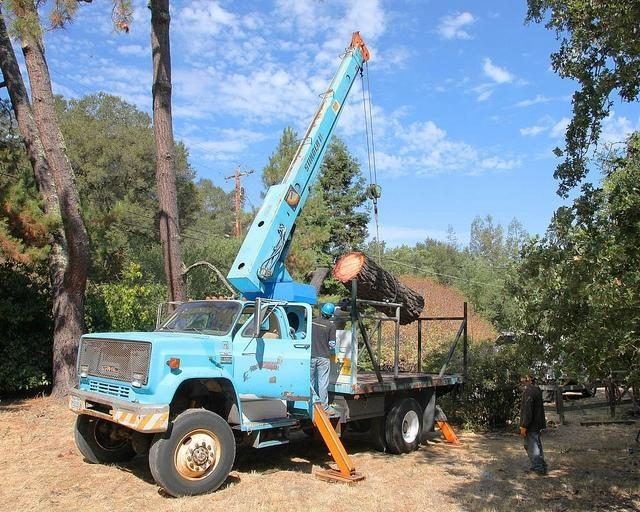truck: (66, 262, 464, 504)
